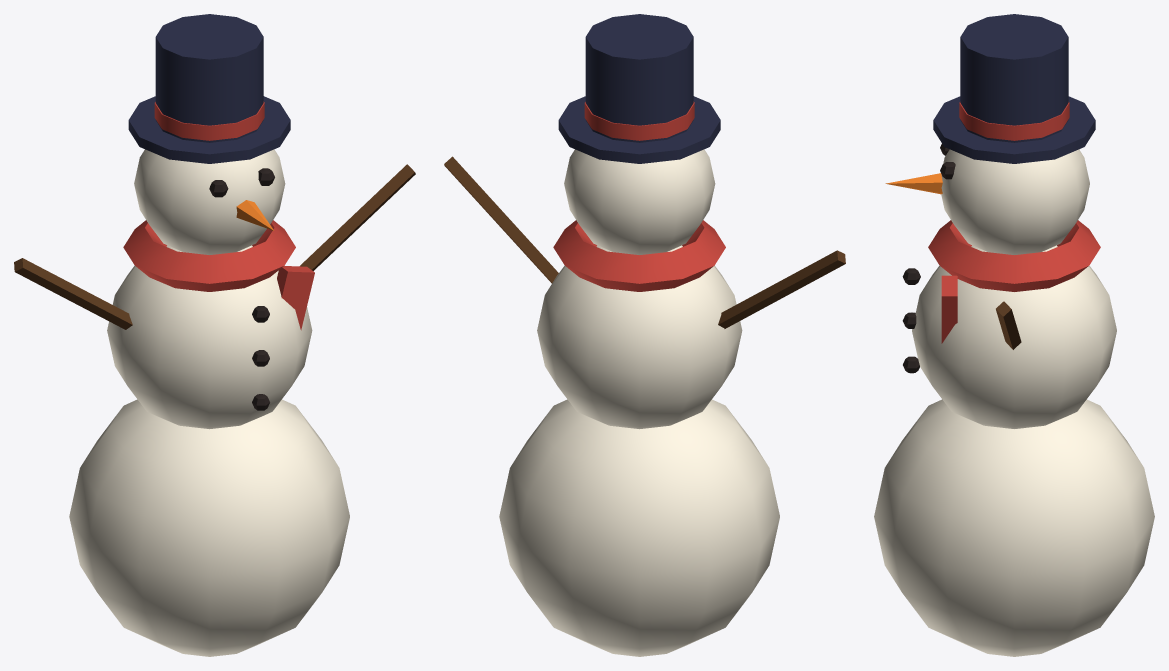
Rendered from PR_Decor_KardanAdam.fbx.
3 views of the same model, side by side, from view 1: azimuth 30°, elevation 25°; view 2: azimuth 150°, elevation 25°; view 3: azimuth 270°, elevation 25° (orthographic).
Parts seen in each view (by area): view 1: PR_Decor_KardanAdam; view 2: PR_Decor_KardanAdam; view 3: PR_Decor_KardanAdam.
Boxes of the visible parts, bbox=[...] form: PR_Decor_KardanAdam: bbox=[14, 14, 415, 656]; PR_Decor_KardanAdam: bbox=[444, 14, 845, 656]; PR_Decor_KardanAdam: bbox=[874, 14, 1154, 656].
Size of the model in its own units: 0.8578 by 1.24 by 0.52.
